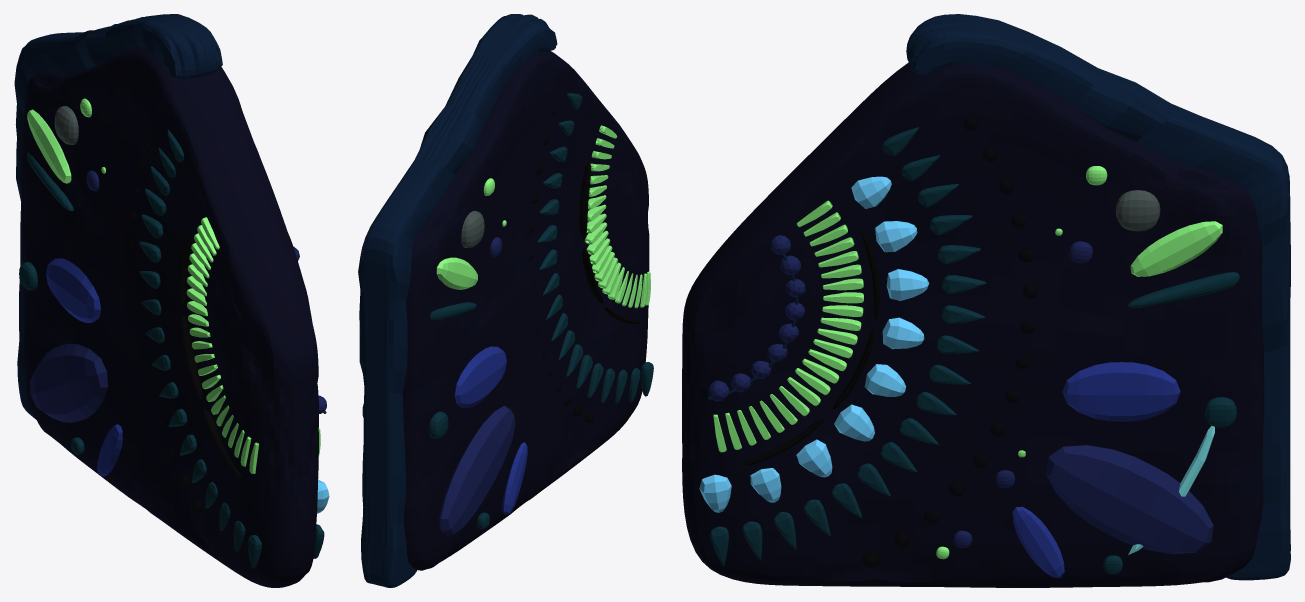
File: st3_door_right.fbx
3 renders of one model, left to right at view 1: azimuth 30°, elevation 25°; view 2: azimuth 150°, elevation 25°; view 3: azimuth 270°, elevation 25°, orthographic. The views are drawn at different scales.
Visible parts, largest first — view 1: stage3_skill_gimmick_door_art1_right_door; view 2: stage3_skill_gimmick_door_art1_right_door; view 3: stage3_skill_gimmick_door_art1_right_door.
Boxes of the visible parts, x1,y1,x2,y2 form: stage3_skill_gimmick_door_art1_right_door: (14,14,329,587); stage3_skill_gimmick_door_art1_right_door: (358,14,653,587); stage3_skill_gimmick_door_art1_right_door: (682,14,1290,587).
Bounding box in the file's own units: 41.3 × 222 × 220.
